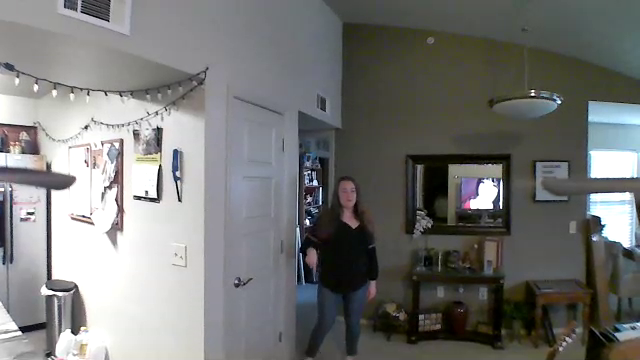down: (302, 245, 321, 277)
